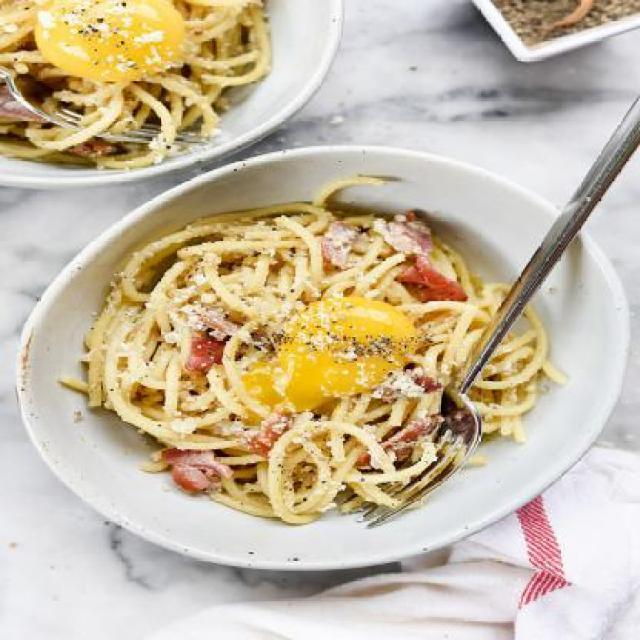Pasta with carbonara sauce: (77, 184, 588, 546)
